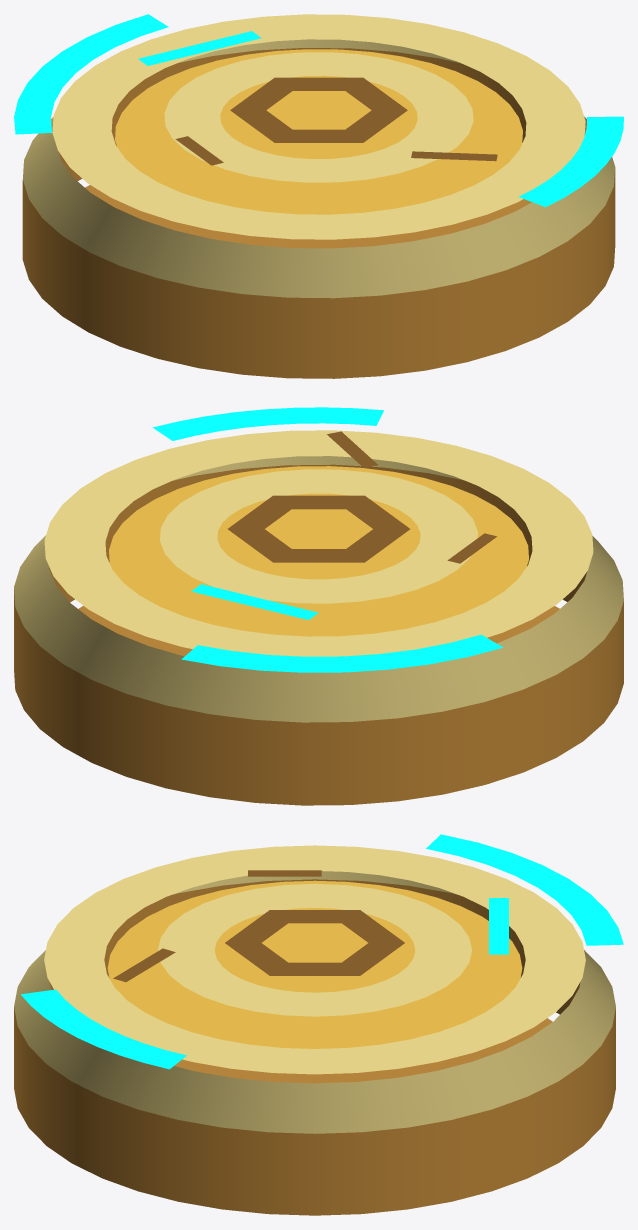
File: BS_Loot_GoldCoin_final.glb
3 views of the same model, one above another, from view 1: azimuth 30°, elevation 25°; view 2: azimuth 150°, elevation 25°; view 3: azimuth 270°, elevation 25° (orthographic). The views are drawn at different scales.
Parts seen in each view (by area): view 1: BS_Loot_GoldCoin; view 2: BS_Loot_GoldCoin; view 3: BS_Loot_GoldCoin.
Part boxes in pixels (box(x1,y1,x2,y2)): BS_Loot_GoldCoin: box(14, 14, 623, 378); BS_Loot_GoldCoin: box(14, 407, 623, 805); BS_Loot_GoldCoin: box(14, 834, 623, 1215).
Bounding box in the file's own units: 0.9 × 0.247 × 0.9119.
